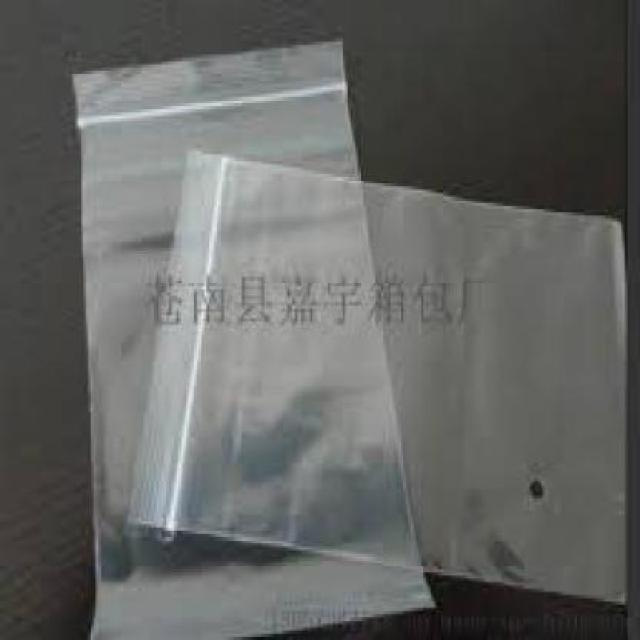plastic: (123, 145, 627, 604), (71, 35, 434, 637)
